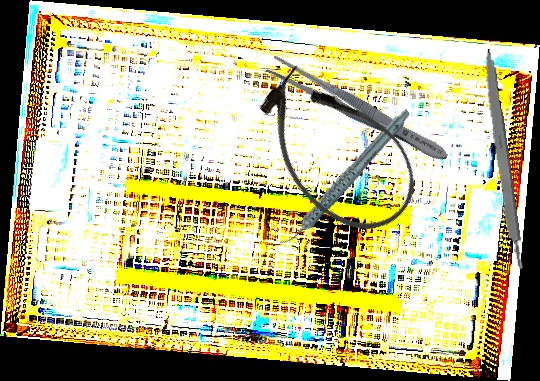Cannula: (235, 48, 438, 255)
Dressing Forceps: (264, 52, 453, 168)
Handpiece: (256, 107, 433, 248)
Scalpel Handle: (479, 48, 525, 271)
